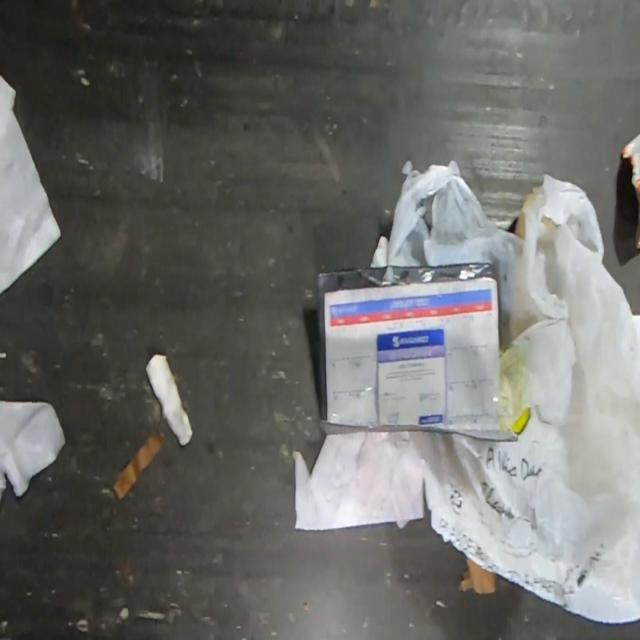soft_plastic: (387, 159, 640, 625), (315, 265, 518, 443), (620, 134, 640, 248)
